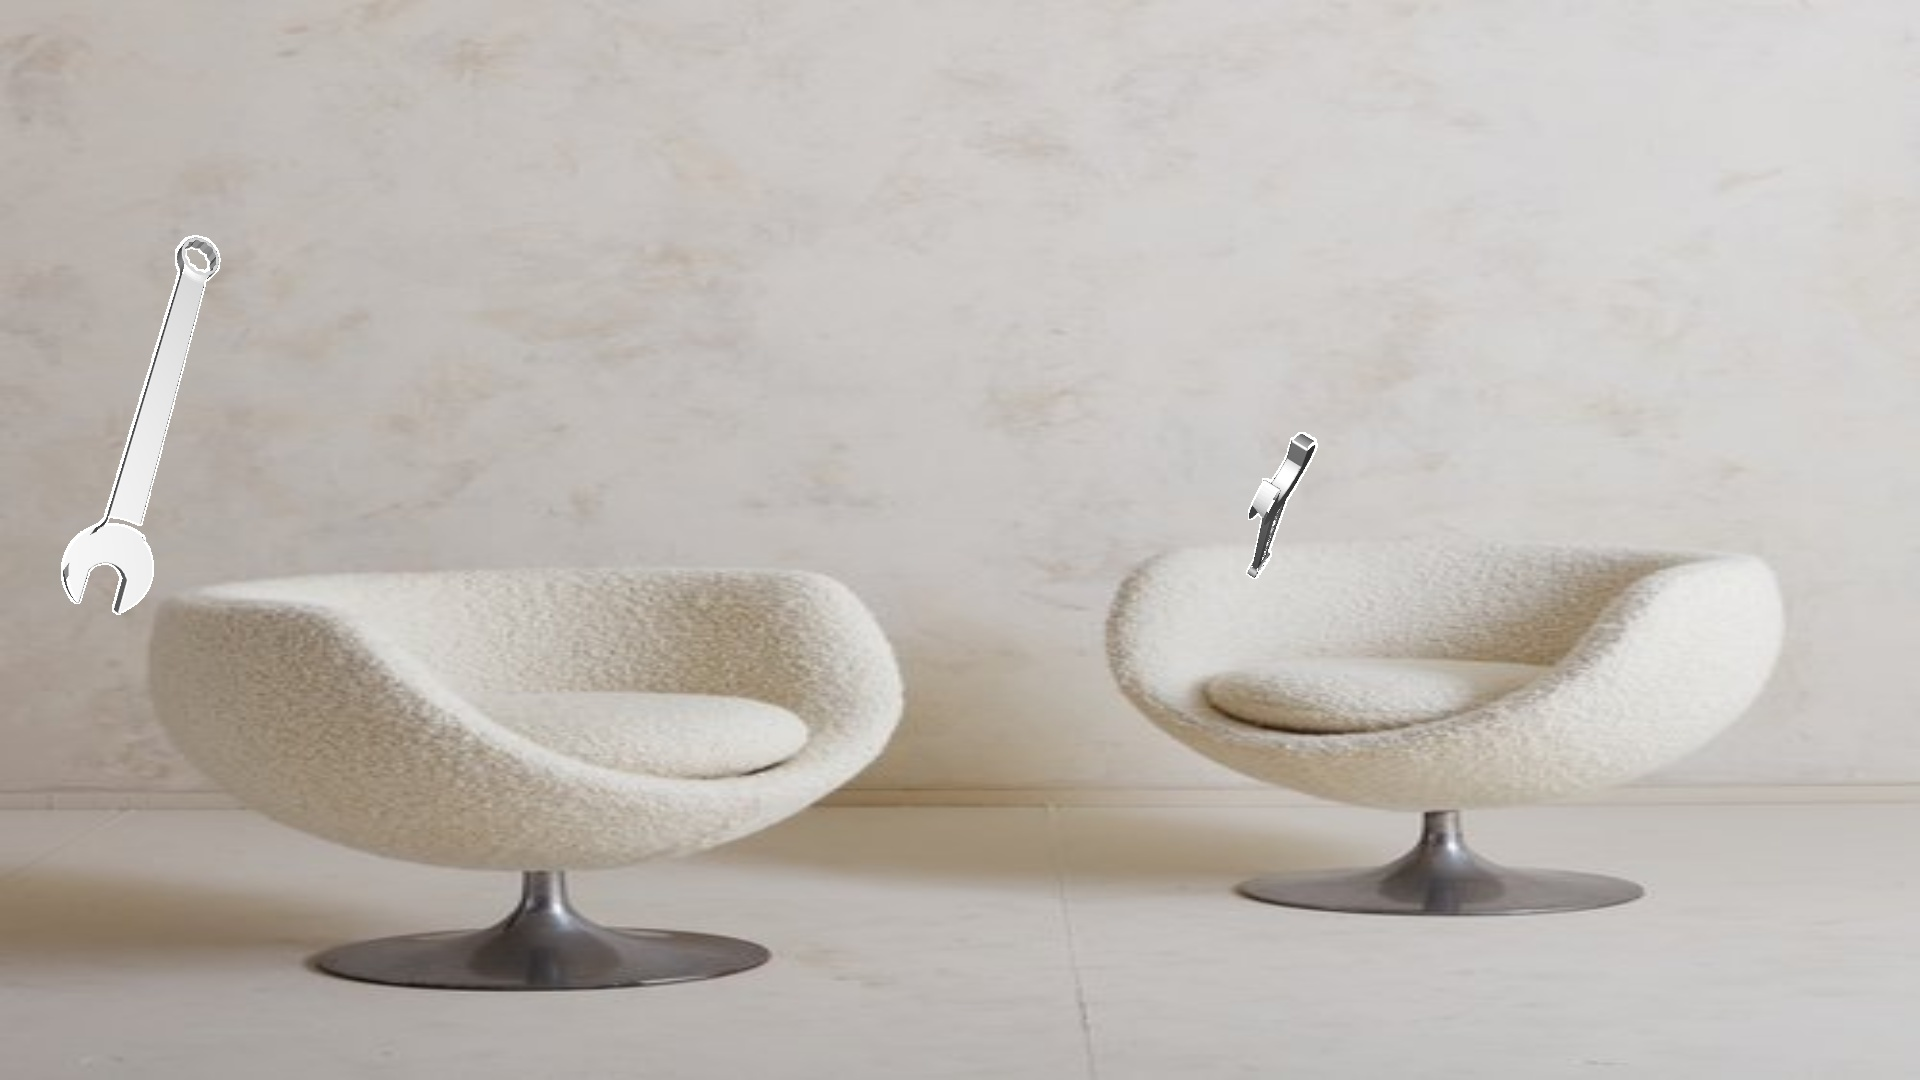Mixed Key: (61, 235, 220, 615), (1246, 433, 1317, 578)
